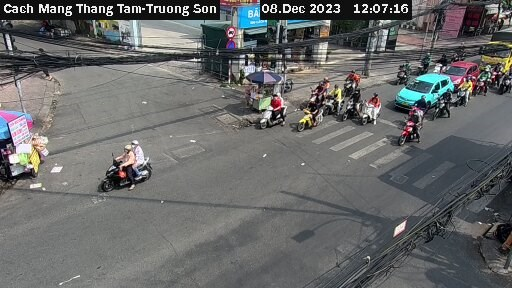car: (396, 72, 454, 109), (443, 60, 477, 88)
motorbike: (101, 144, 160, 198), (253, 92, 289, 133), (398, 112, 432, 145), (293, 100, 326, 133), (359, 96, 392, 124), (428, 91, 457, 118), (318, 88, 347, 113), (342, 93, 367, 120), (453, 77, 479, 102), (301, 84, 328, 104), (394, 60, 415, 85), (415, 53, 437, 76), (344, 72, 365, 91)
truck: (479, 29, 512, 69)
